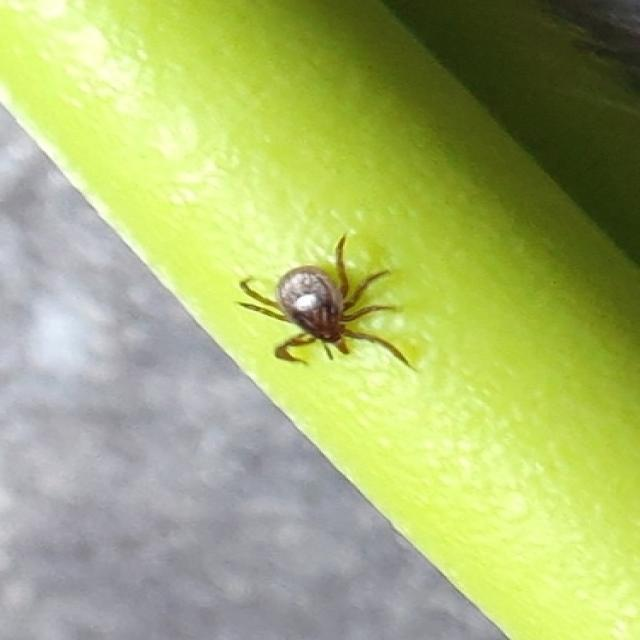Ixodes Ricinus-F: (234, 233, 413, 367)
